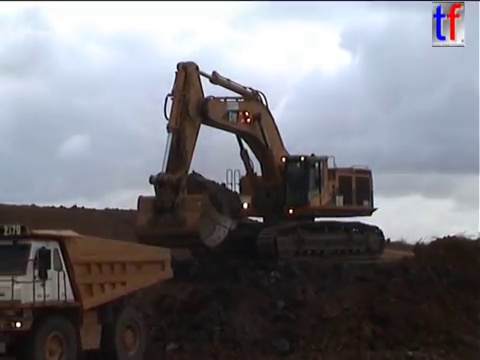excavator: (132, 59, 389, 266)
truck: (1, 221, 177, 360)
